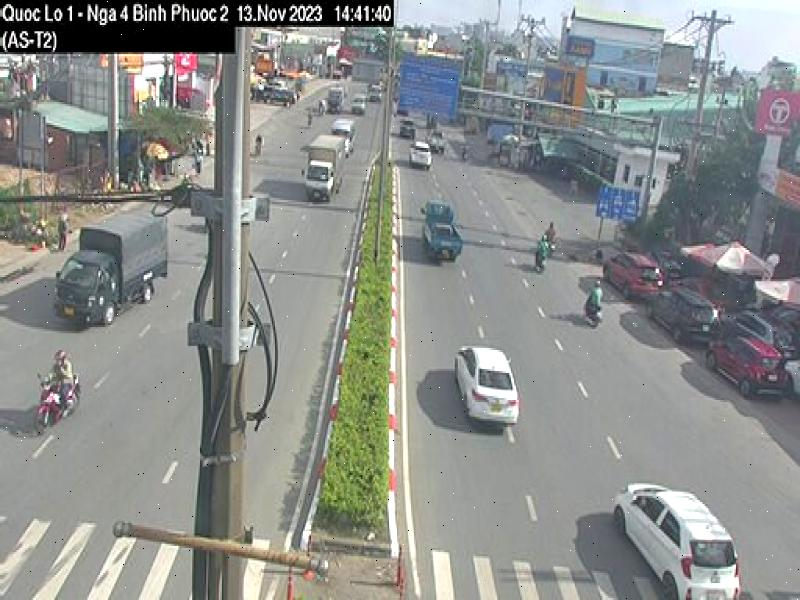truck: (48, 198, 171, 333), (294, 126, 352, 208), (415, 189, 473, 269)
